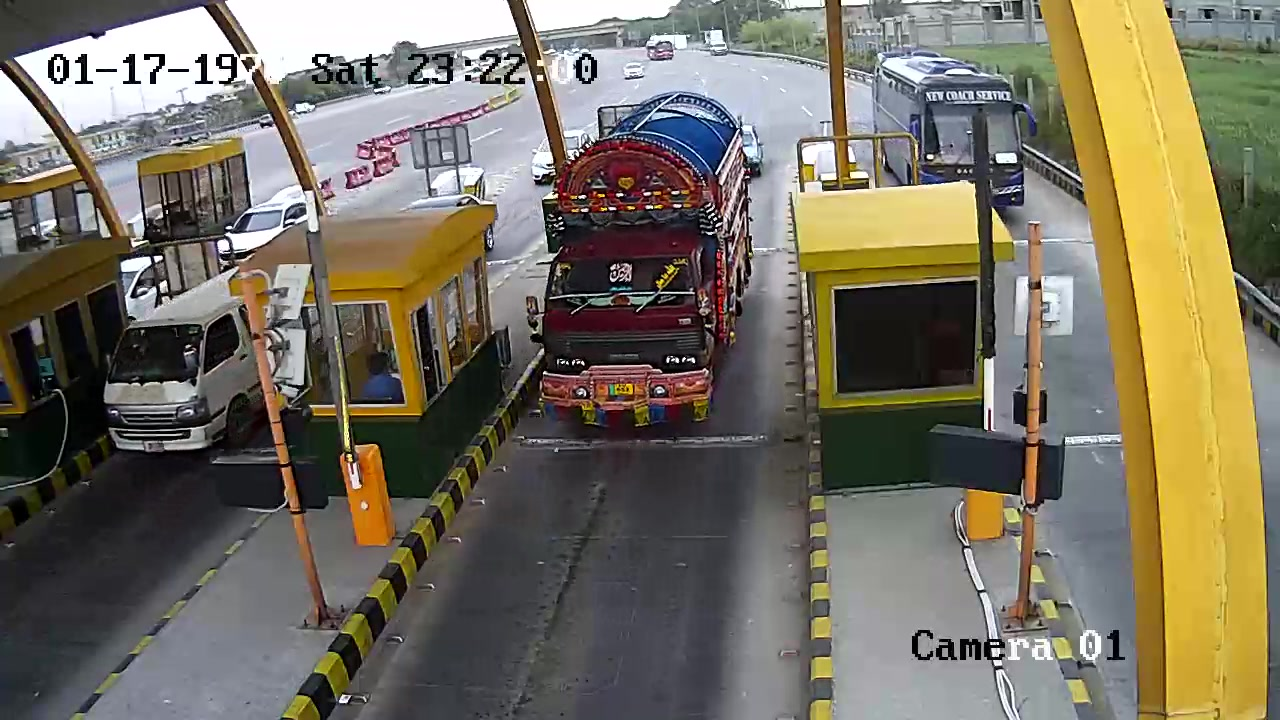F5: (537, 87, 757, 423)
